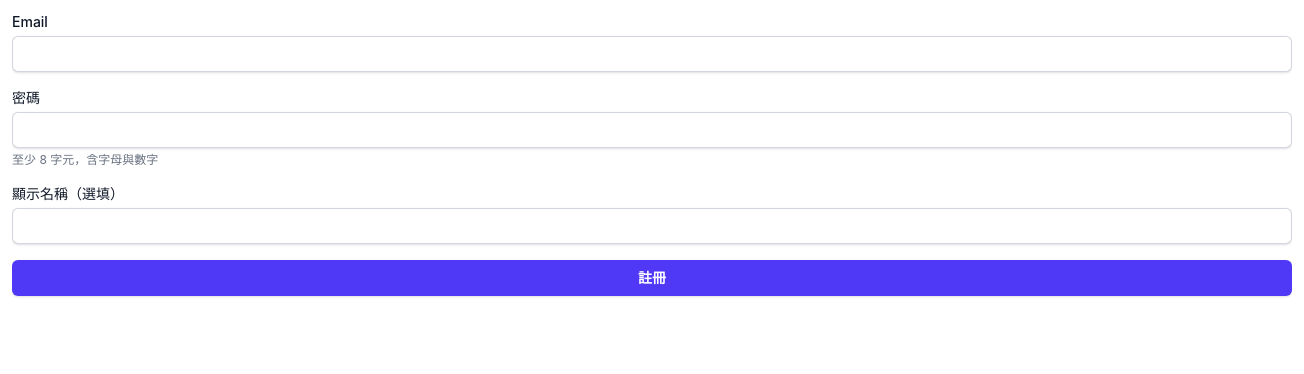
Test: RegisterForm › submits and shows success message
Type "new@example.com" into the field labelled "Email" at [652, 54], box [12, 36, 1292, 72]
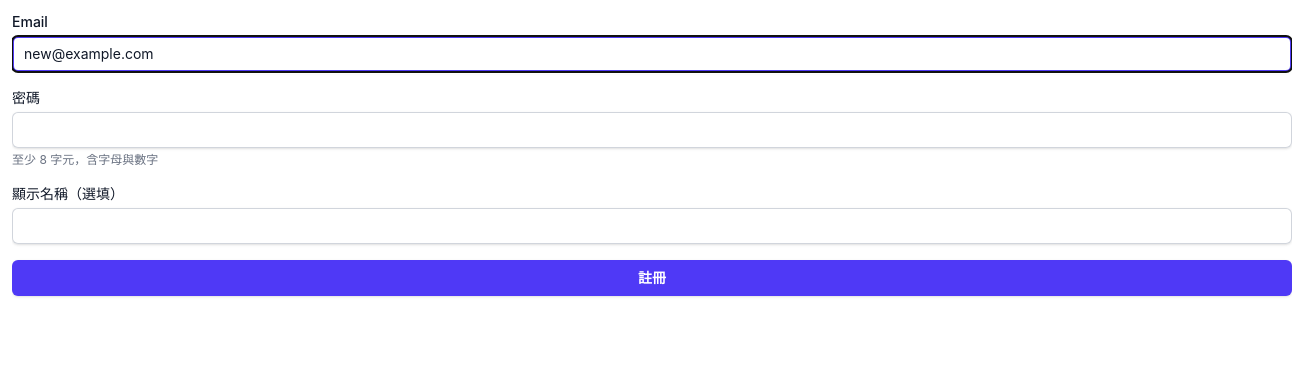
Type "Strong1pass" into the password field labelled "密碼" at [652, 130], box [12, 112, 1292, 148]
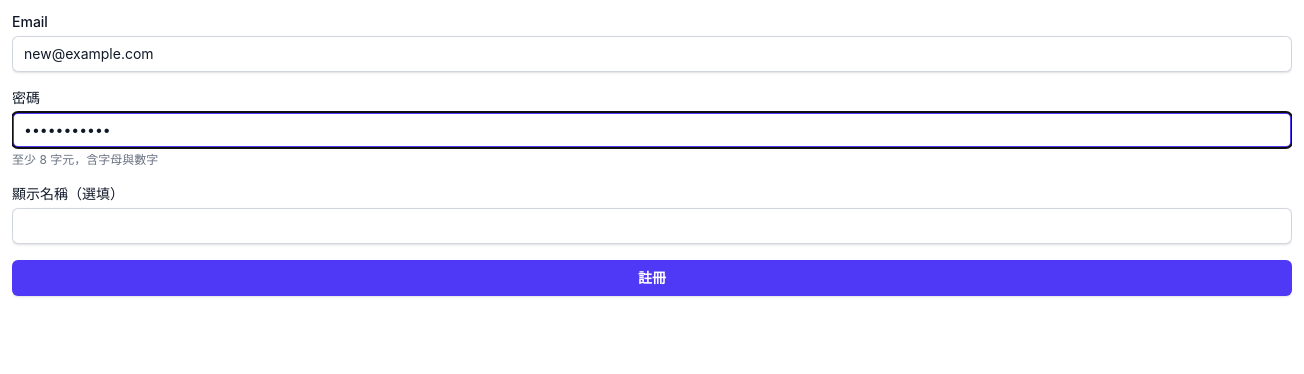
Click the button "註冊" at [652, 278], box [12, 260, 1292, 296]
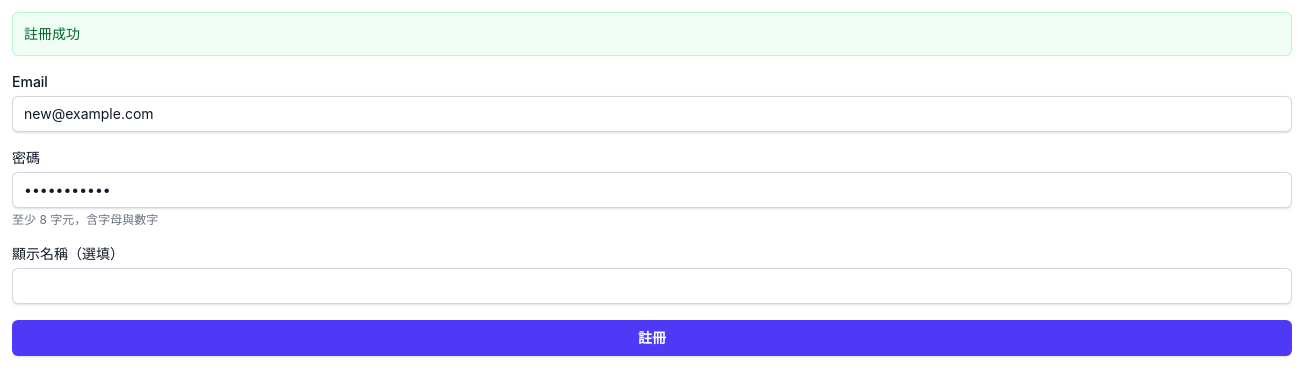
Expected: the text "註冊成功" is shown, [12, 12, 1292, 56]
